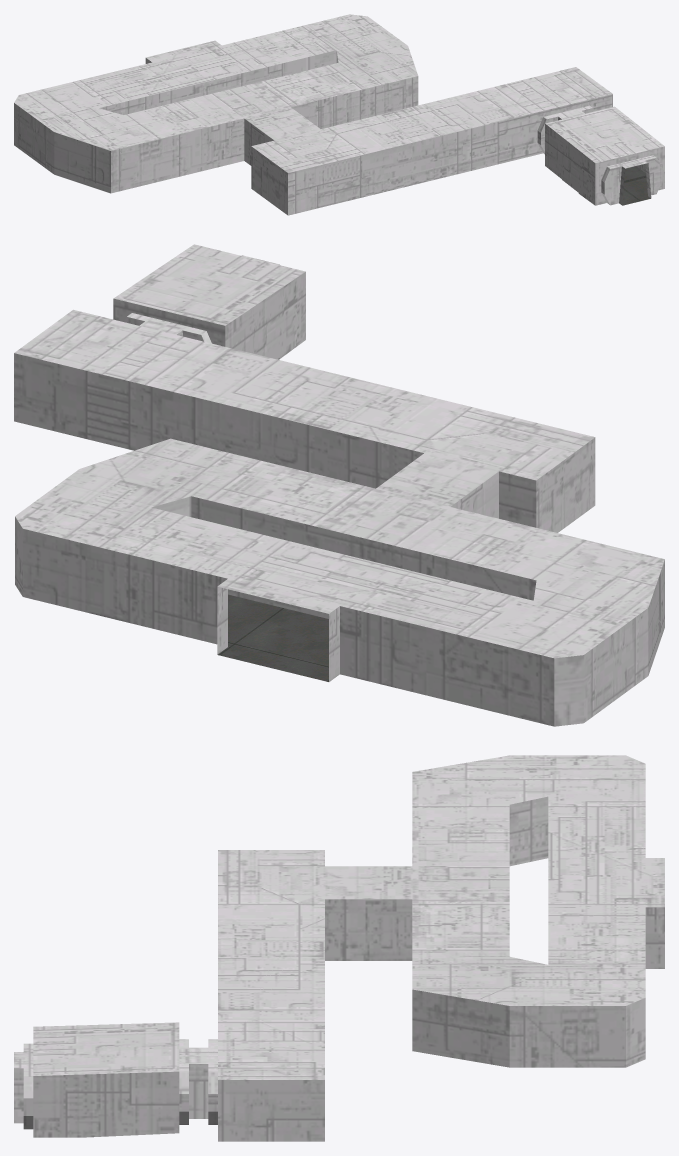
Rendered from thm_spc_star_destroyer_s01_r49_hallway14_mesh_r49.fbx.
3 renders of one model, top to bottom at view 1: azimuth 30°, elevation 25°; view 2: azimuth 150°, elevation 25°; view 3: azimuth 270°, elevation 25°, orthographic. The views are drawn at different scales.
Parts seen in each view (by area): view 1: mesh_node; view 2: mesh_node; view 3: mesh_node.
Part boxes in pixels (bbox=[...]): mesh_node: bbox=[14, 14, 664, 215]; mesh_node: bbox=[14, 244, 664, 726]; mesh_node: bbox=[14, 755, 664, 1141].
Bounding box in the file's own units: 39.5 × 3.75 × 33.5.
2 materials, 2 textured.
